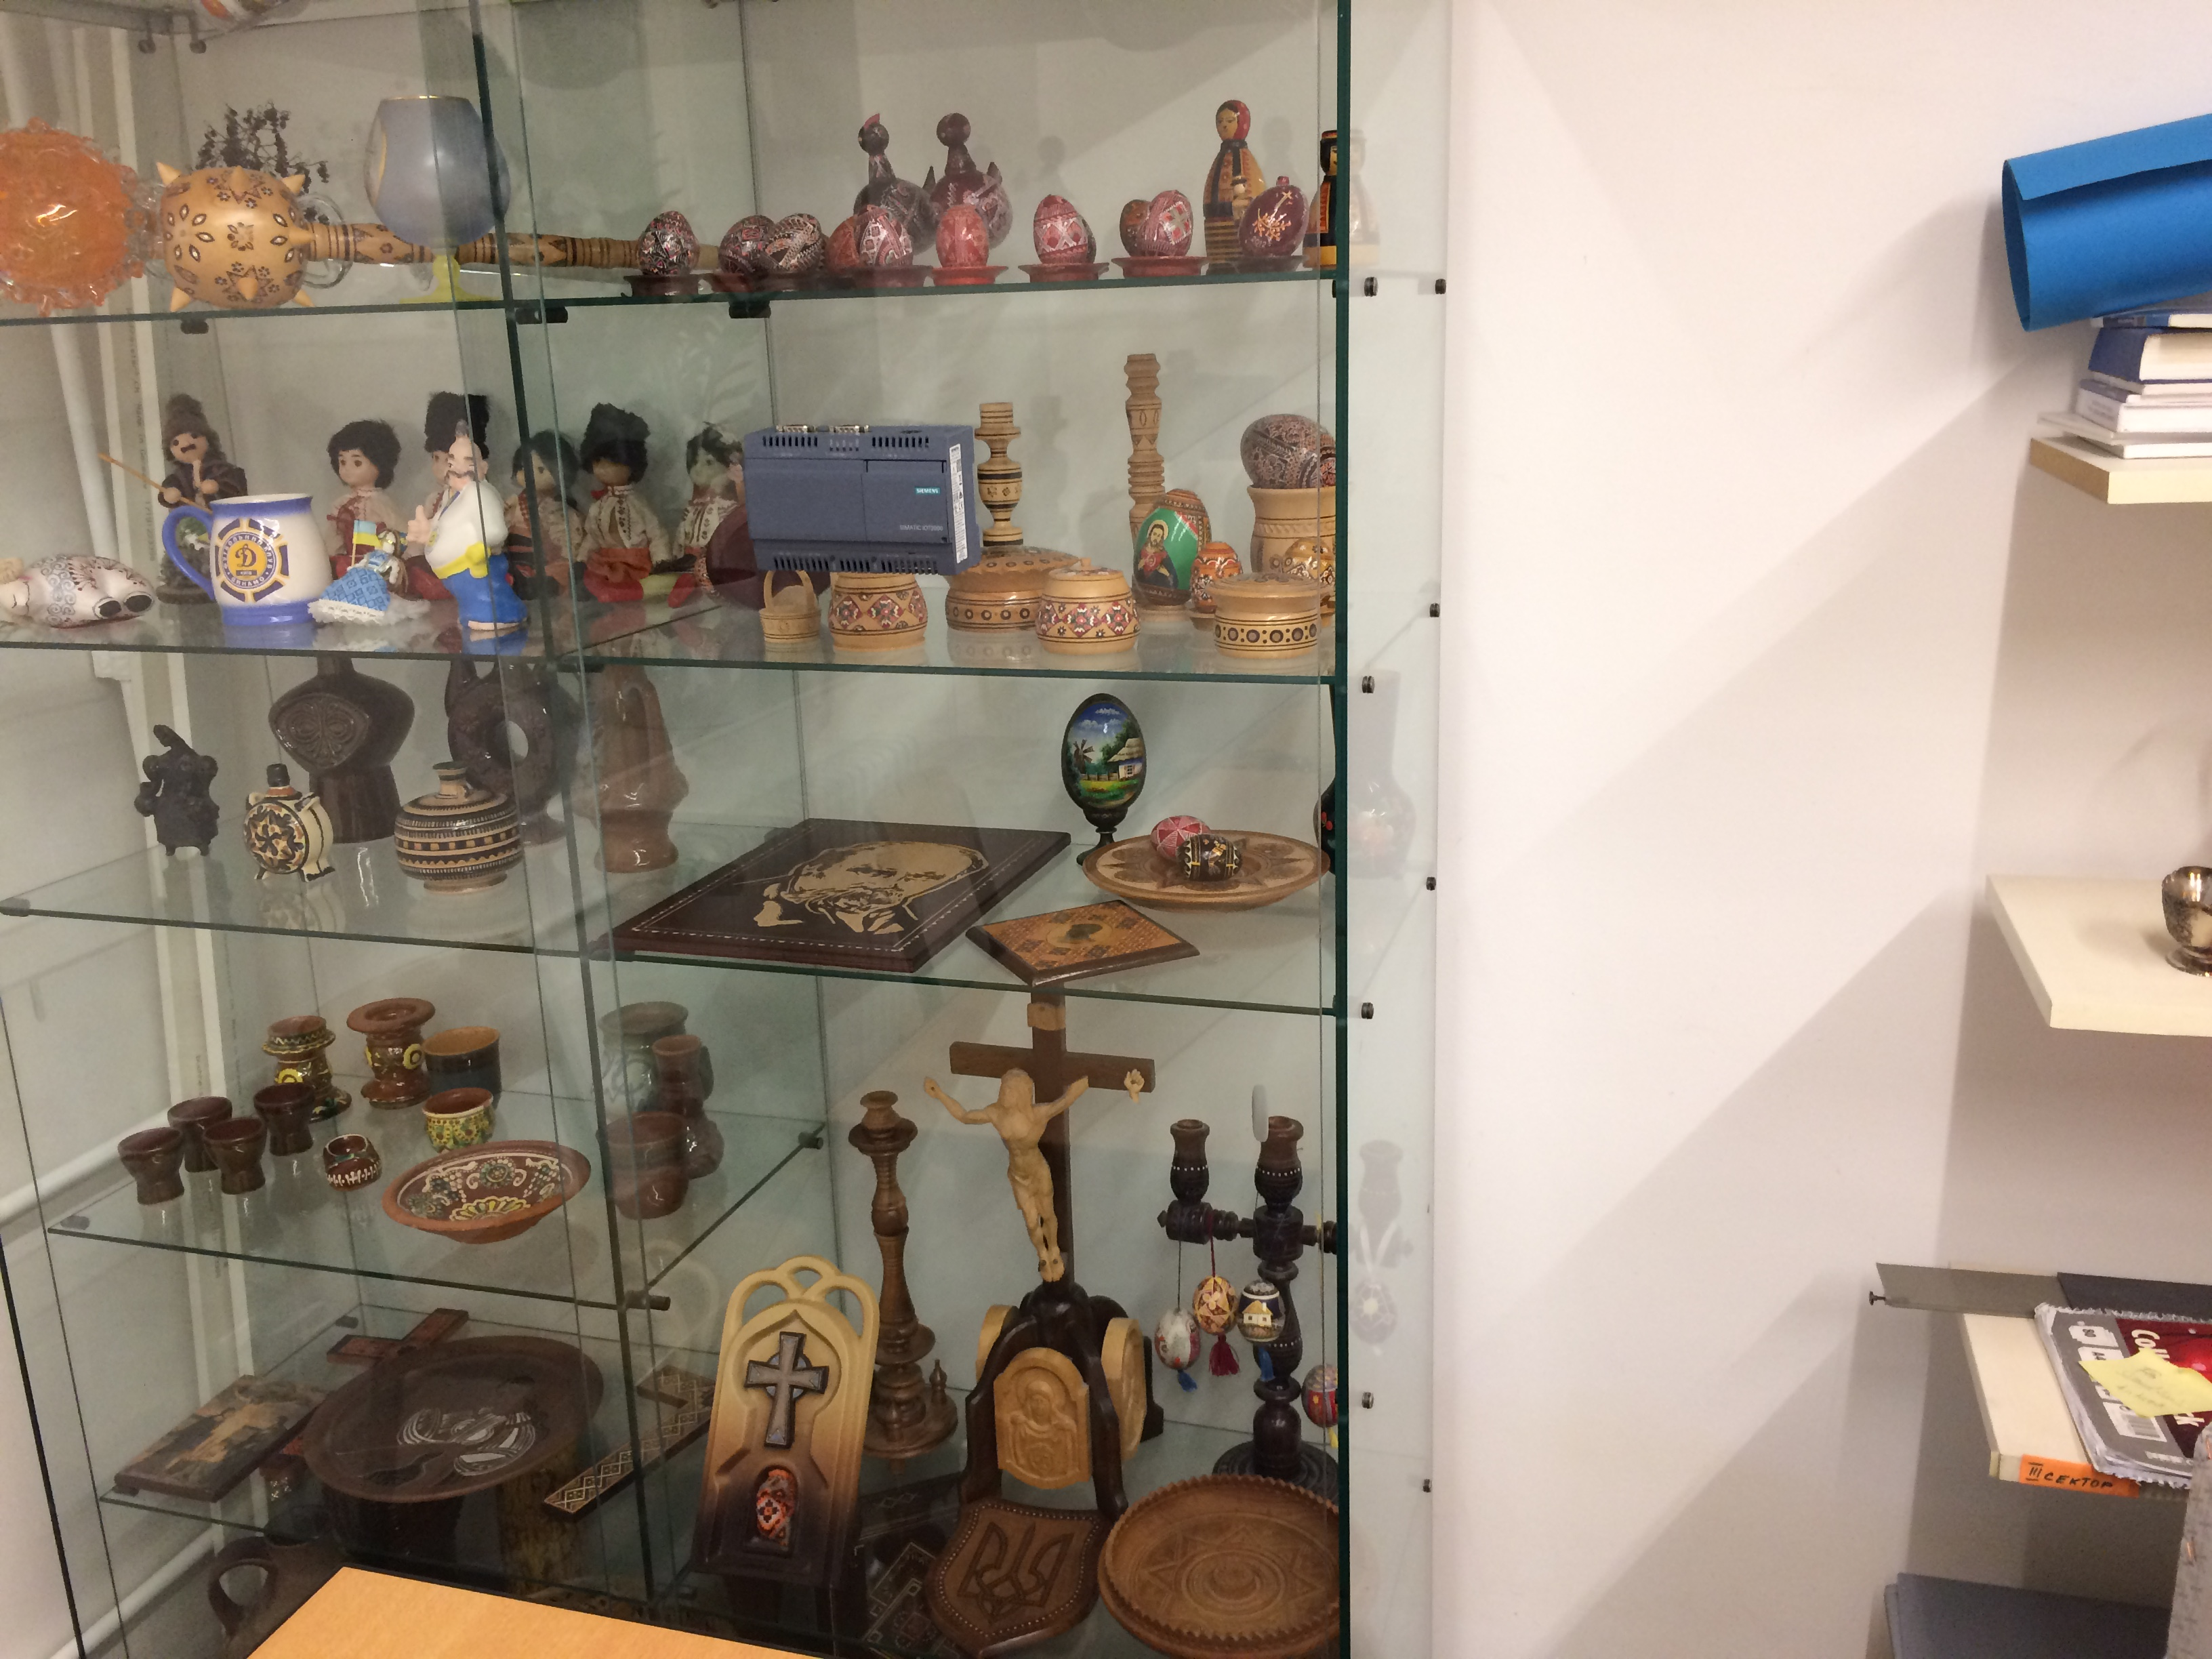iot2000: (738, 420, 982, 579)
